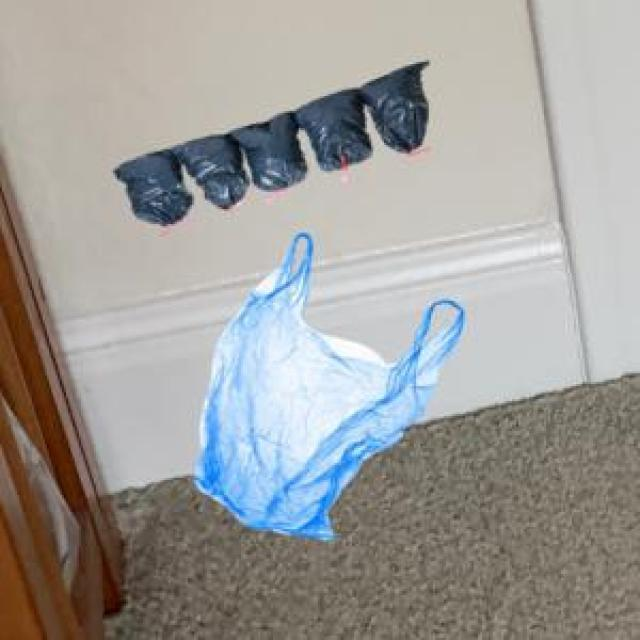miscellaneous trash: (109, 58, 425, 224)
